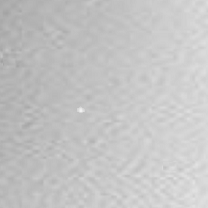Target: (77, 107, 85, 113)
